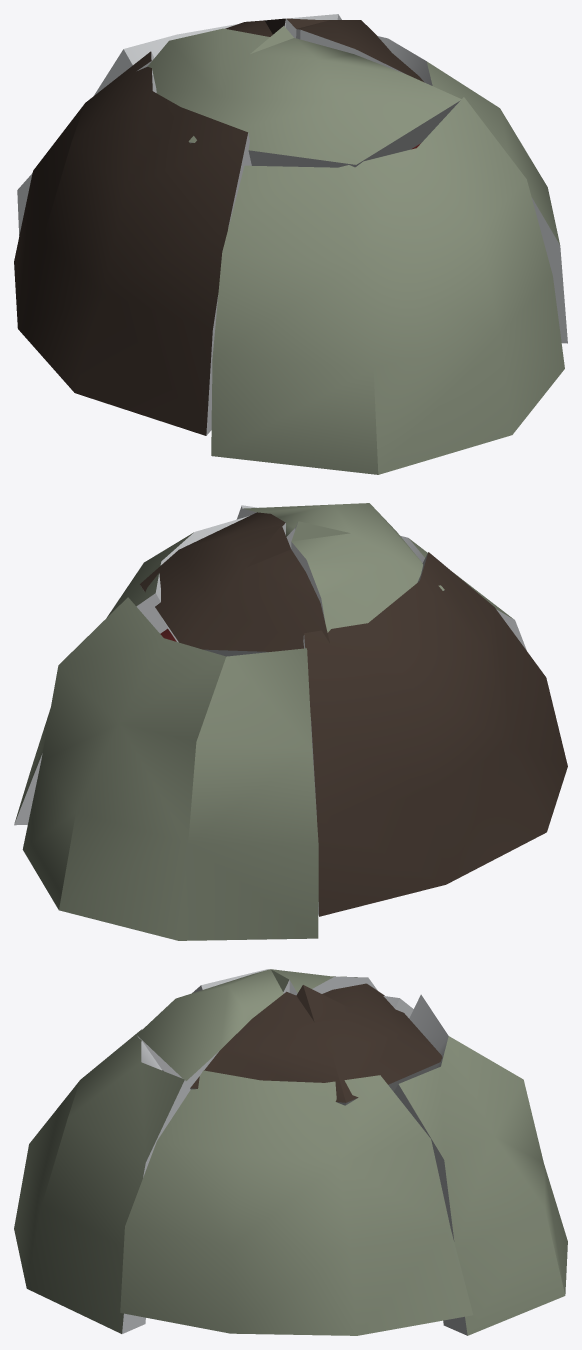
Rendered from head_fragments.glb.
The picture shows the model from 3 angles, top to bottom: view 1: azimuth 30°, elevation 25°; view 2: azimuth 150°, elevation 25°; view 3: azimuth 270°, elevation 25°; orthographic projection. The views are drawn at different scales.
Parts seen in each view (by area): view 1: Frag_3, Frag_2, Frag_5, Frag_0, Frag_4, Frag_1; view 2: Frag_1, Frag_2, Frag_4, Frag_5, Frag_0, Frag_3; view 3: Frag_0, Frag_1, Frag_3, Frag_4, Frag_5, Frag_2.
Part boxes in pixels (bbox=[...]): Frag_3: bbox=[211, 97, 564, 474]; Frag_2: bbox=[14, 51, 251, 435]; Frag_5: bbox=[148, 26, 461, 167]; Frag_0: bbox=[377, 36, 567, 343]; Frag_4: bbox=[137, 18, 424, 82]; Frag_1: bbox=[17, 14, 341, 235]; Frag_1: bbox=[22, 597, 318, 940]; Frag_2: bbox=[303, 552, 567, 916]; Frag_4: bbox=[140, 512, 329, 656]; Frag_5: bbox=[242, 503, 444, 632]; Frag_0: bbox=[14, 516, 248, 825]; Frag_3: bbox=[236, 505, 526, 650]; Frag_0: bbox=[120, 1070, 473, 1335]; Frag_1: bbox=[394, 994, 567, 1335]; Frag_3: bbox=[14, 1029, 190, 1333]; Frag_4: bbox=[190, 983, 442, 1105]; Frag_5: bbox=[137, 969, 377, 1087]; Frag_2: bbox=[162, 969, 413, 1070].
Bounding box in the file's own units: 0.1861 × 0.118 × 0.2145.
